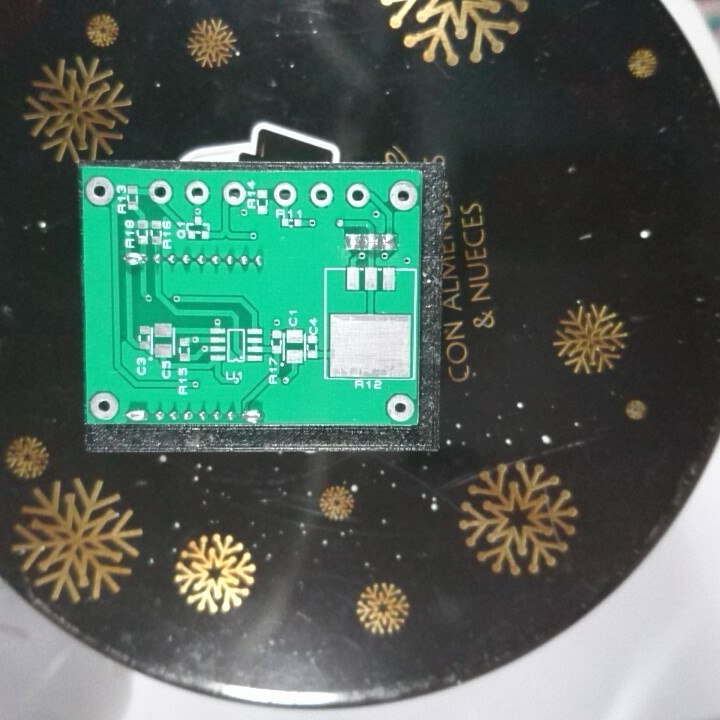F: (386, 178, 419, 213), (83, 174, 115, 209), (382, 390, 416, 422), (88, 389, 119, 419), (308, 181, 337, 209), (271, 180, 299, 208), (145, 177, 173, 205), (219, 179, 248, 206), (183, 178, 209, 205), (345, 181, 370, 209)
P: (121, 249, 147, 267), (239, 405, 265, 423), (124, 406, 151, 423)
